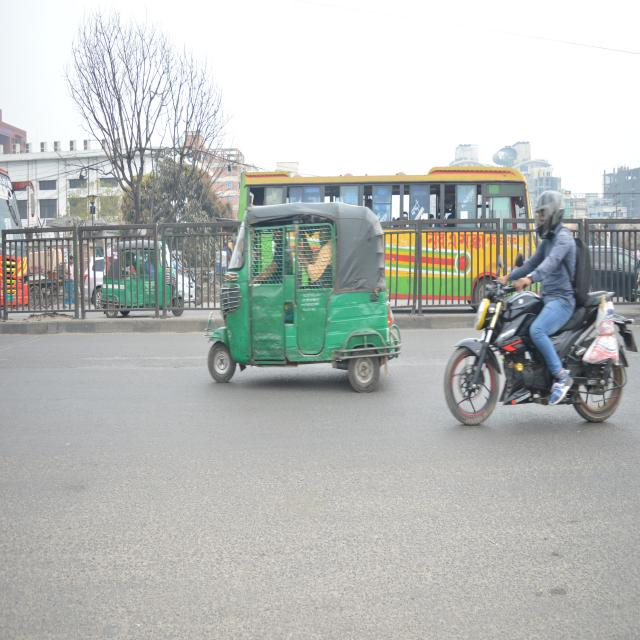motorbike: (440, 247, 635, 446)
